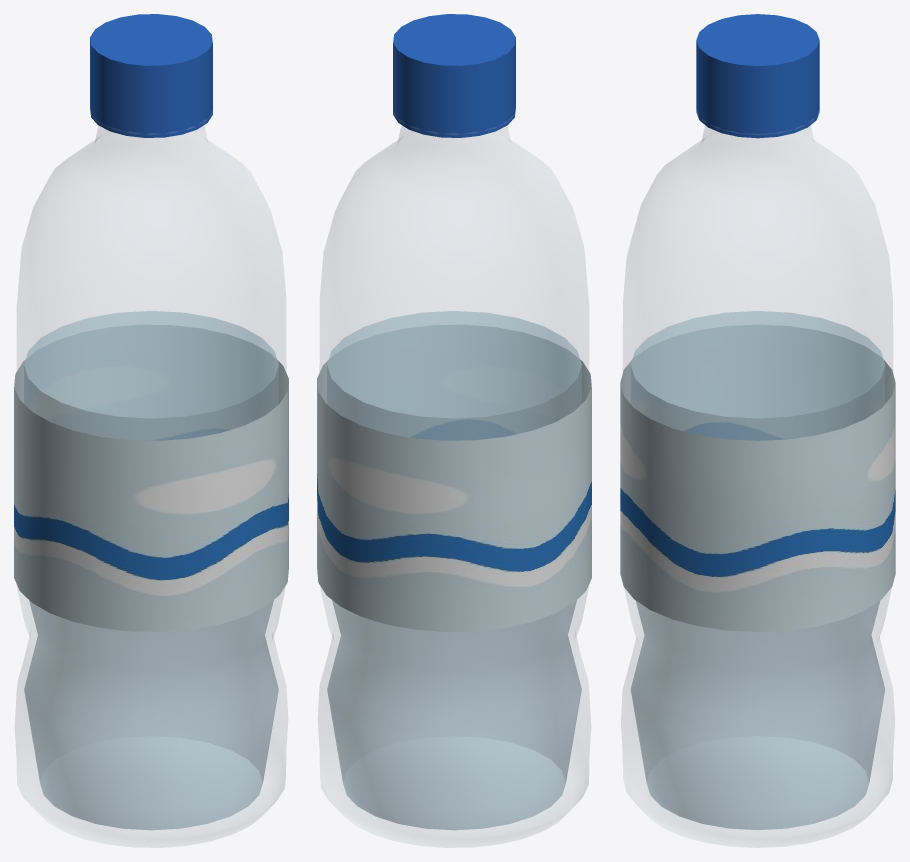
Rendered from bottle_water_bottle_500ml.glb.
3 views of the same model, side by side, from view 1: azimuth 30°, elevation 25°; view 2: azimuth 150°, elevation 25°; view 3: azimuth 270°, elevation 25° (orthographic).
Visible parts, largest first — view 1: bottle_water_bottle_500ml; view 2: bottle_water_bottle_500ml; view 3: bottle_water_bottle_500ml.
Boxes of the visible parts, <box> form: bottle_water_bottle_500ml: <box>14,14,288,847</box>; bottle_water_bottle_500ml: <box>317,14,591,847</box>; bottle_water_bottle_500ml: <box>620,14,895,847</box>.
Bounding box in the file's own units: 0.0692 × 0.2107 × 0.0692.
Materials: 4 (1 with a texture image).
